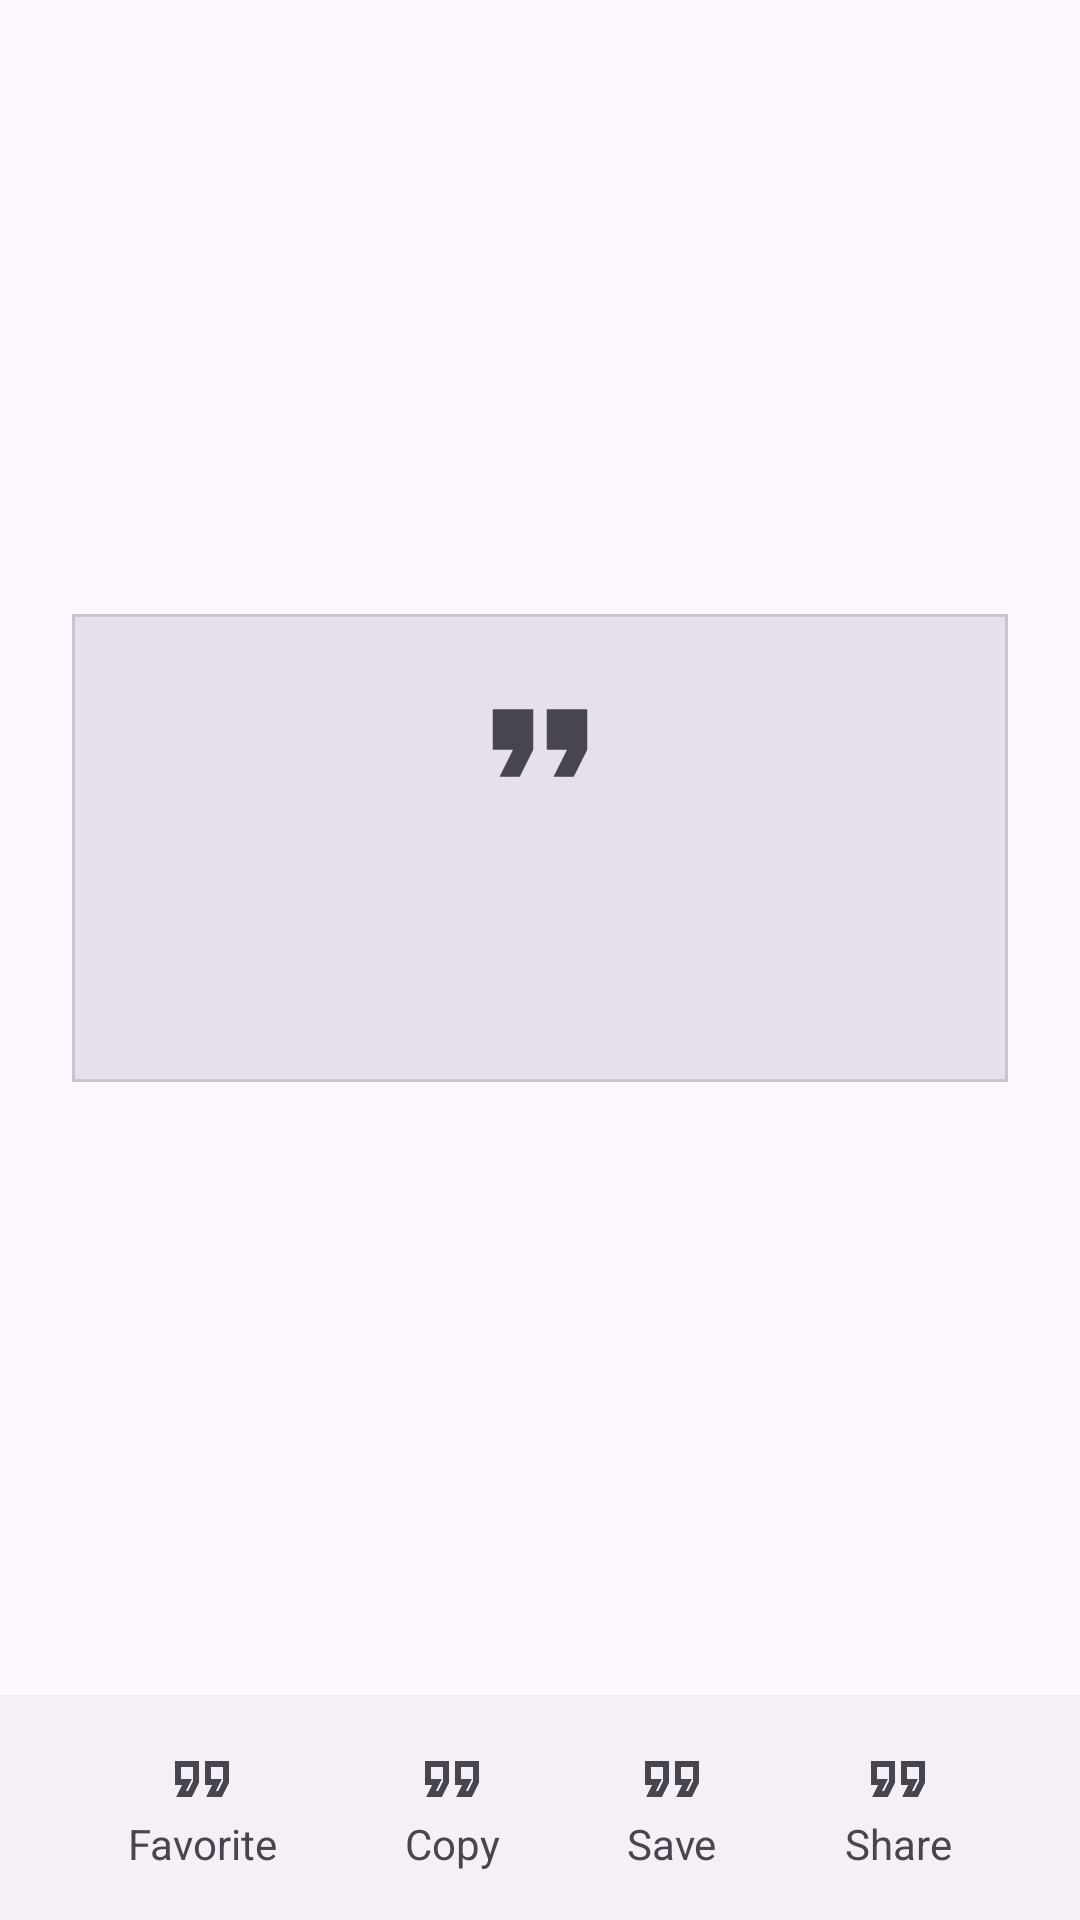

Where icons sit on this 1080×1920 app screen, as (x1, y1, x2, y2):
quote: (492, 709, 588, 777), (175, 1761, 229, 1797), (425, 1761, 479, 1797), (645, 1761, 699, 1797), (871, 1761, 925, 1797)
